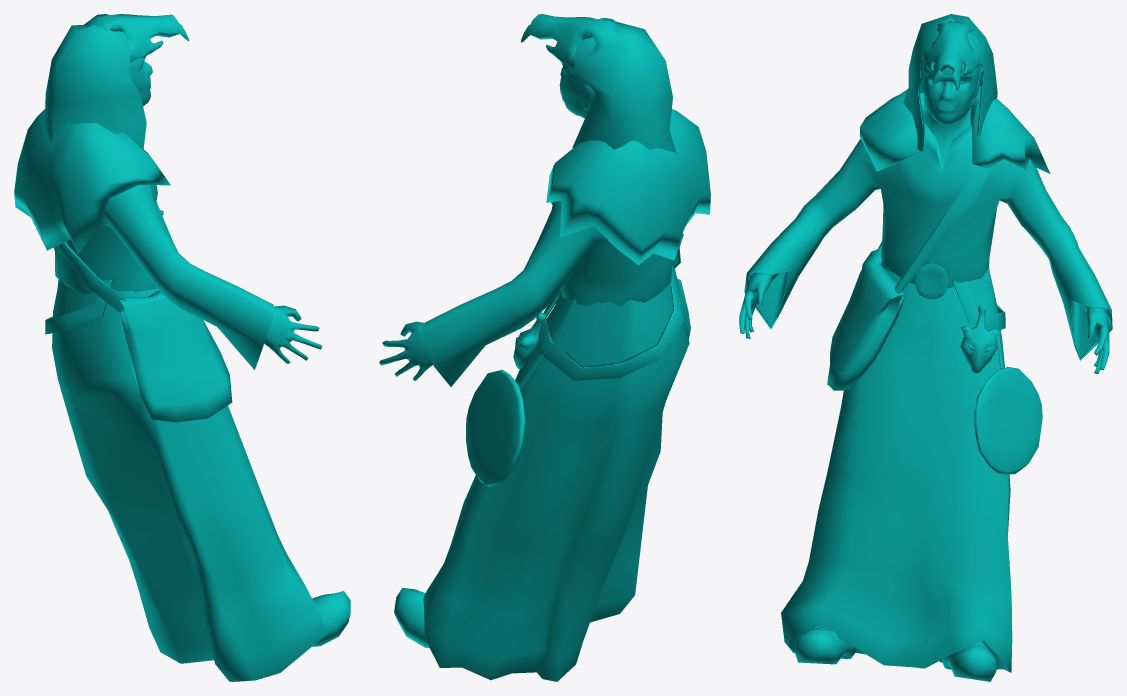
The model's file is Shaman.glb.
3 views of the same model, side by side, from view 1: azimuth 30°, elevation 25°; view 2: azimuth 150°, elevation 25°; view 3: azimuth 270°, elevation 25° (orthographic). The views are drawn at different scales.
Parts seen in each view (by area): view 1: Shaman; view 2: Shaman; view 3: Shaman.
Boxes of the visible parts, bbox=[...] form: Shaman: bbox=[14, 14, 350, 681]; Shaman: bbox=[379, 14, 710, 681]; Shaman: bbox=[739, 14, 1112, 681].
Size of the model in its own units: 2.77 by 6.63 by 3.67.
